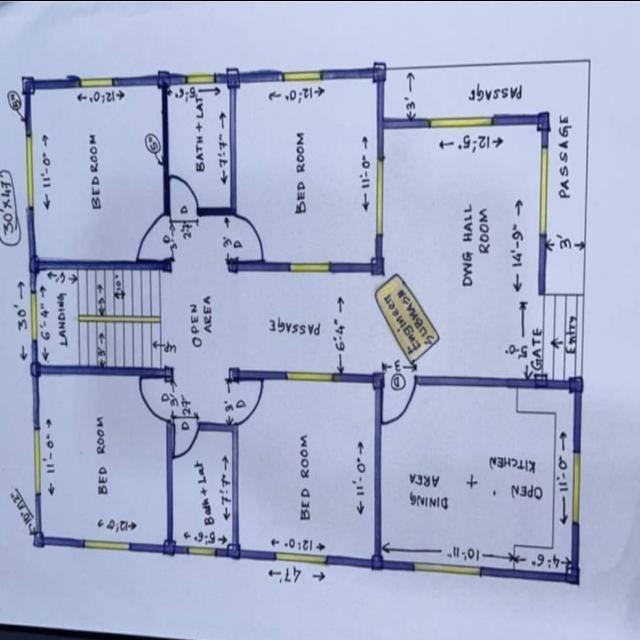column: (560, 558, 583, 590), (160, 239, 177, 279), (225, 538, 248, 566), (366, 252, 386, 282), (369, 58, 392, 84), (536, 106, 554, 138), (368, 548, 387, 578), (158, 532, 178, 560), (155, 66, 174, 95), (566, 374, 588, 398), (370, 362, 388, 391), (24, 250, 44, 276), (21, 68, 38, 98), (26, 355, 46, 380), (224, 66, 244, 90), (224, 254, 244, 278), (158, 362, 176, 388), (30, 527, 48, 551), (226, 365, 243, 383)
